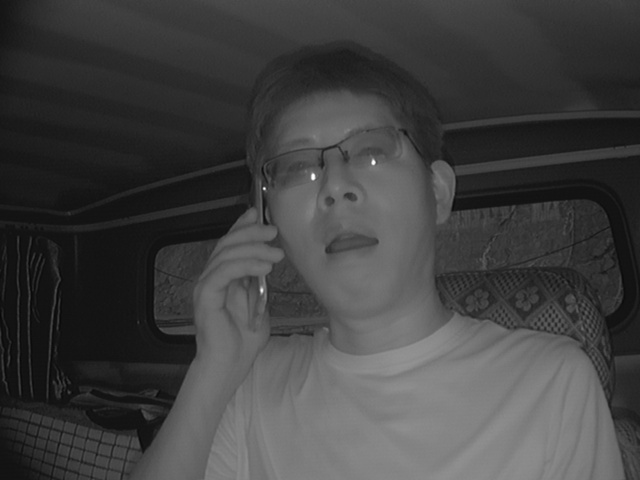hand: (185, 206, 283, 354)
